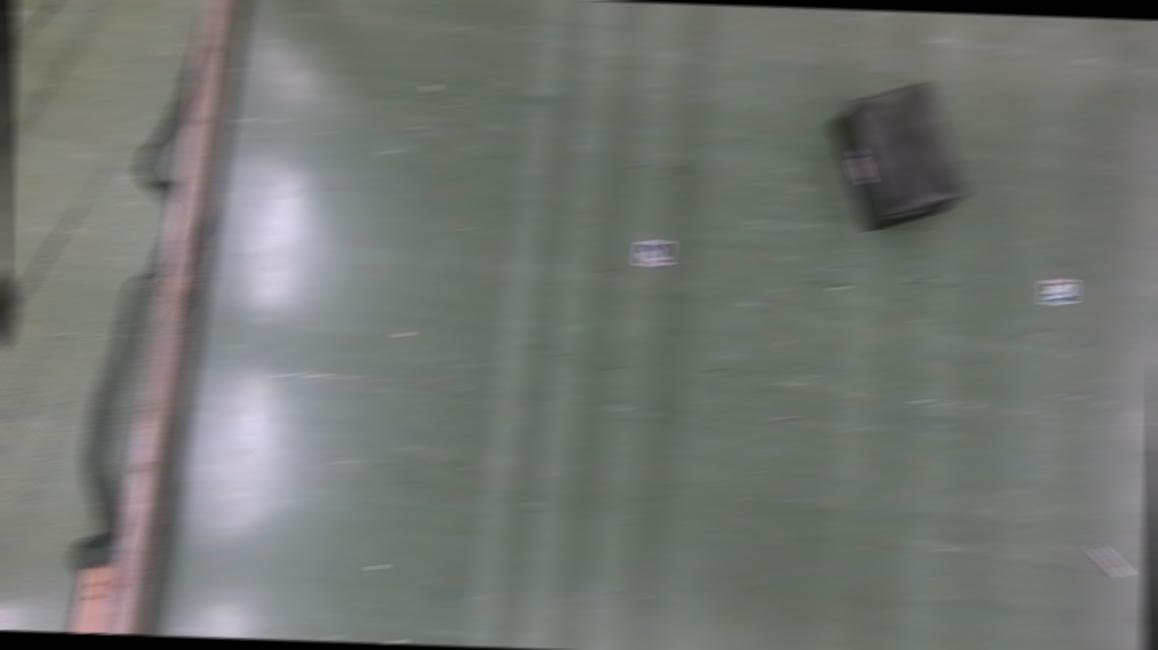probes: (1086, 543, 1132, 576)
rako: (824, 78, 971, 236)
